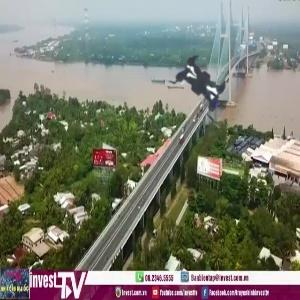drone: (130, 19, 269, 158)
